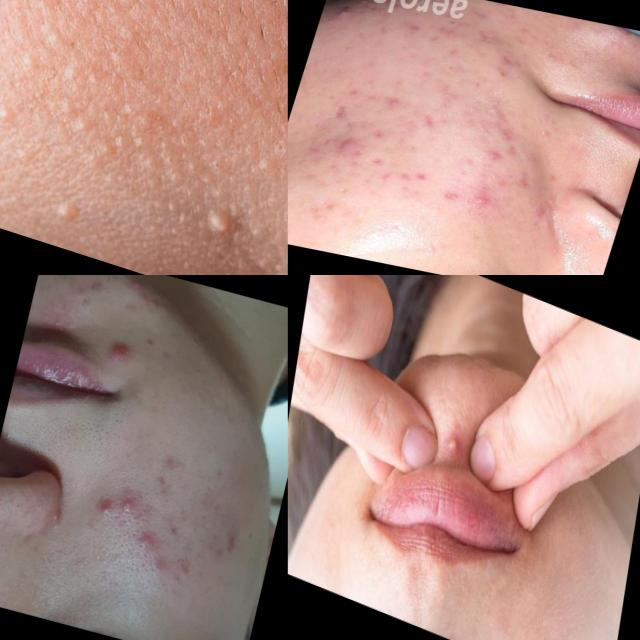7: (512, 213, 532, 233)
8: (103, 321, 144, 370), (454, 180, 502, 219), (146, 546, 178, 582), (377, 86, 410, 118), (130, 527, 158, 561), (88, 489, 116, 521)
9: (111, 484, 148, 524), (439, 414, 464, 466), (323, 0, 358, 26)
blackheads: (363, 150, 434, 194), (314, 94, 363, 130), (303, 189, 349, 221), (332, 78, 369, 100), (419, 108, 445, 136)
pustules: (328, 125, 370, 159)
